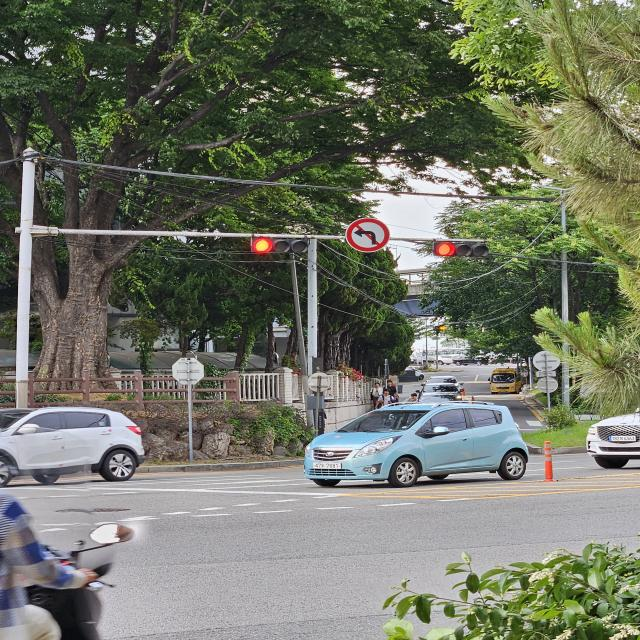Red Light: (252, 239, 272, 253), (435, 242, 455, 256)
